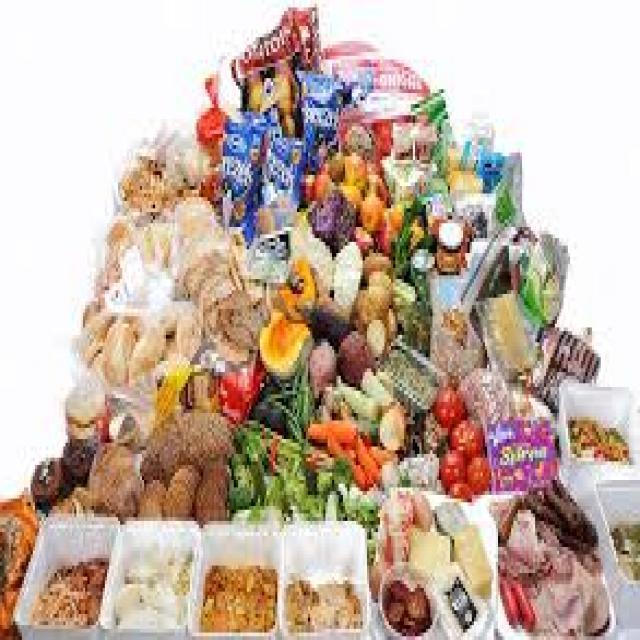Wet: (1, 1, 640, 640), (13, 510, 371, 640)
